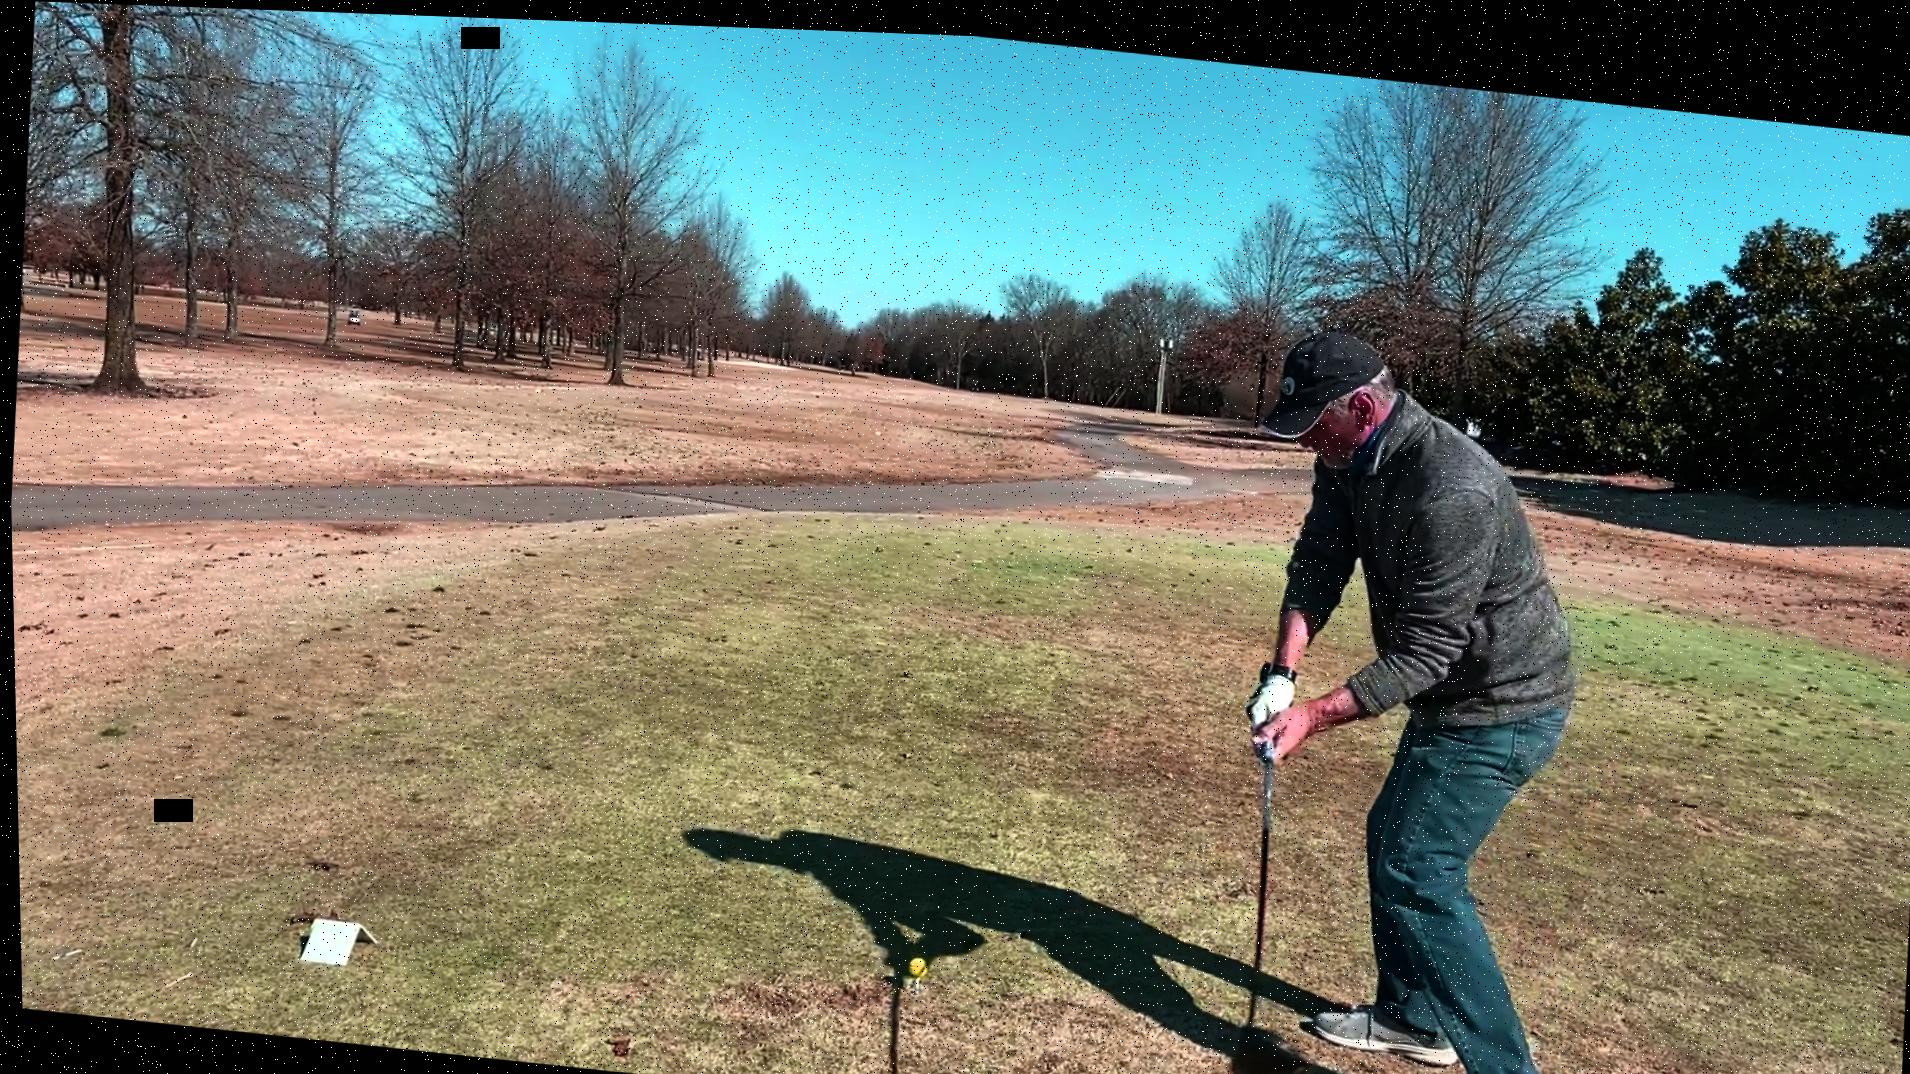ClubHead: (1223, 1010, 1309, 1074)
GolfBall: (903, 947, 927, 973)
